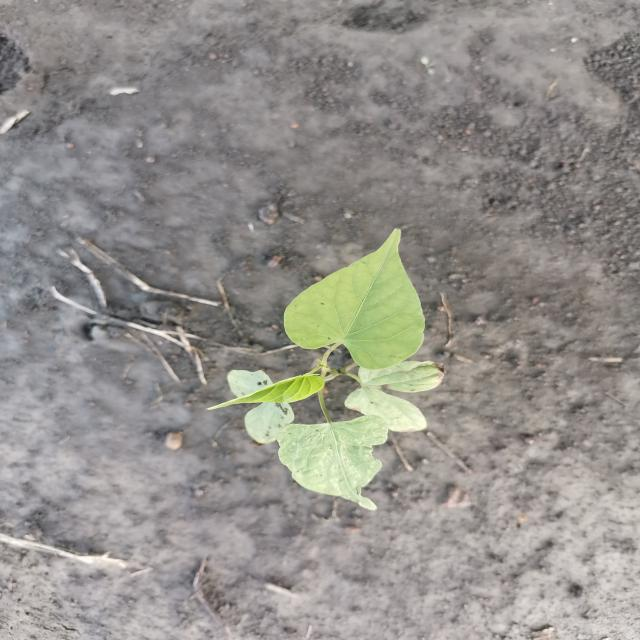MorningGlory: (200, 226, 448, 516)
